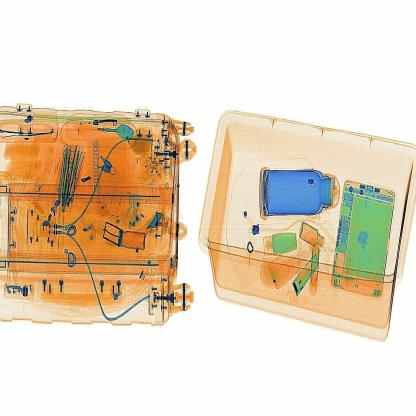pliers: (134, 206, 174, 247)
